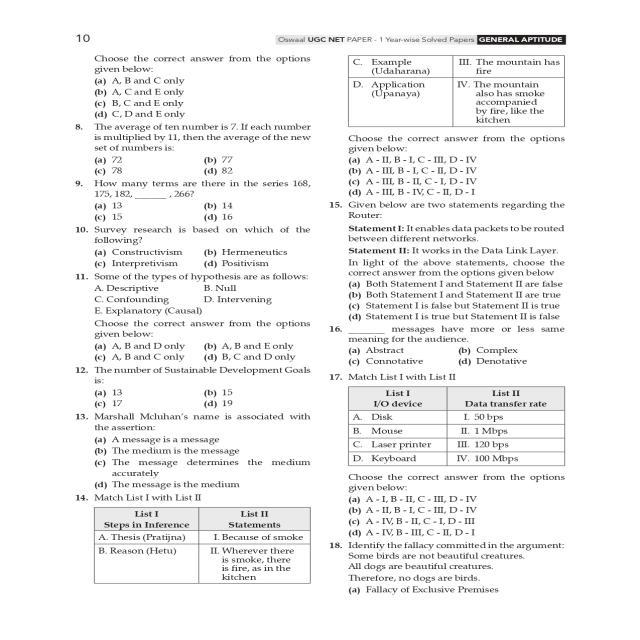Answer_Block: (324, 494, 640, 539), (324, 280, 640, 324), (78, 435, 324, 491), (324, 156, 640, 199), (78, 76, 324, 122), (78, 198, 324, 226), (78, 338, 324, 364), (78, 155, 324, 179), (78, 247, 324, 270), (78, 390, 324, 410), (324, 582, 640, 596)
Question_Answer_Block: (324, 371, 640, 538), (324, 51, 640, 199), (324, 201, 640, 324), (78, 495, 324, 591), (78, 274, 324, 364), (78, 412, 324, 492), (78, 51, 324, 123), (324, 542, 640, 596), (324, 323, 640, 368), (78, 125, 324, 179), (78, 225, 324, 270), (78, 365, 324, 410), (78, 181, 324, 225)
Question_Block: (324, 369, 640, 492), (324, 51, 640, 155), (324, 202, 640, 282), (78, 495, 324, 591), (78, 274, 324, 338), (324, 542, 640, 582), (78, 125, 324, 154), (324, 324, 640, 344), (78, 365, 324, 390), (78, 51, 324, 74), (78, 411, 324, 434), (78, 181, 324, 201), (78, 225, 324, 245)
Question_Paper_Area: (324, 51, 640, 594), (78, 52, 324, 592)
